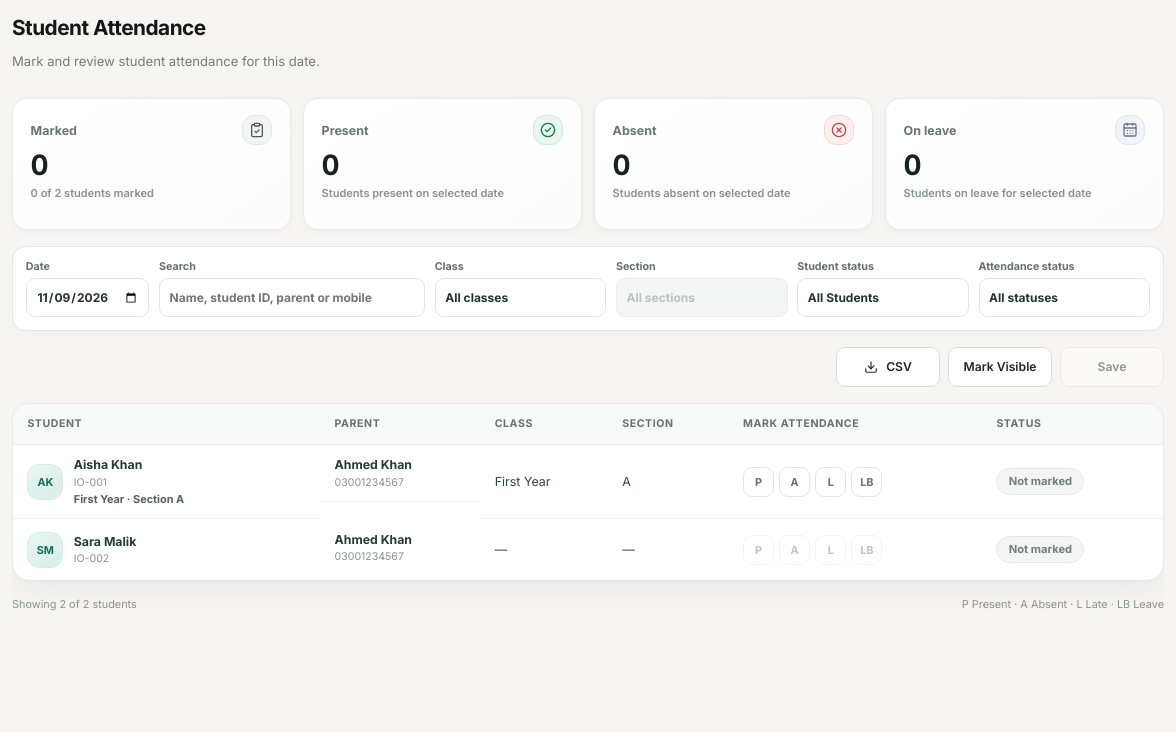
Test: AttendanceStudentsWorkspace › keeps the complete roster loaded while applying search locally
Expected: the text "Aisha Khan" is shown, [74,458,142,472]
Type "Sara" into the search field named "Search students" at (292, 298), box [159,278,425,317]
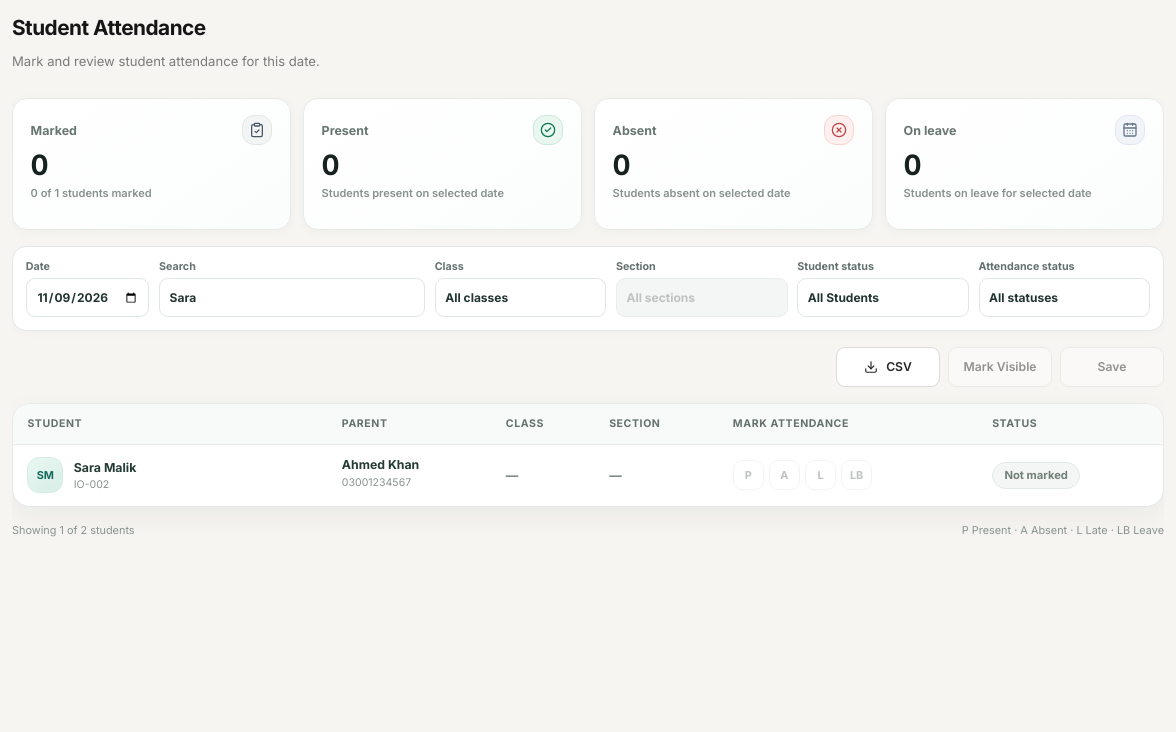
Expected: the text "Sara Malik" is shown, [74,460,136,475]
Result: the text "Aisha Khan" is gone
